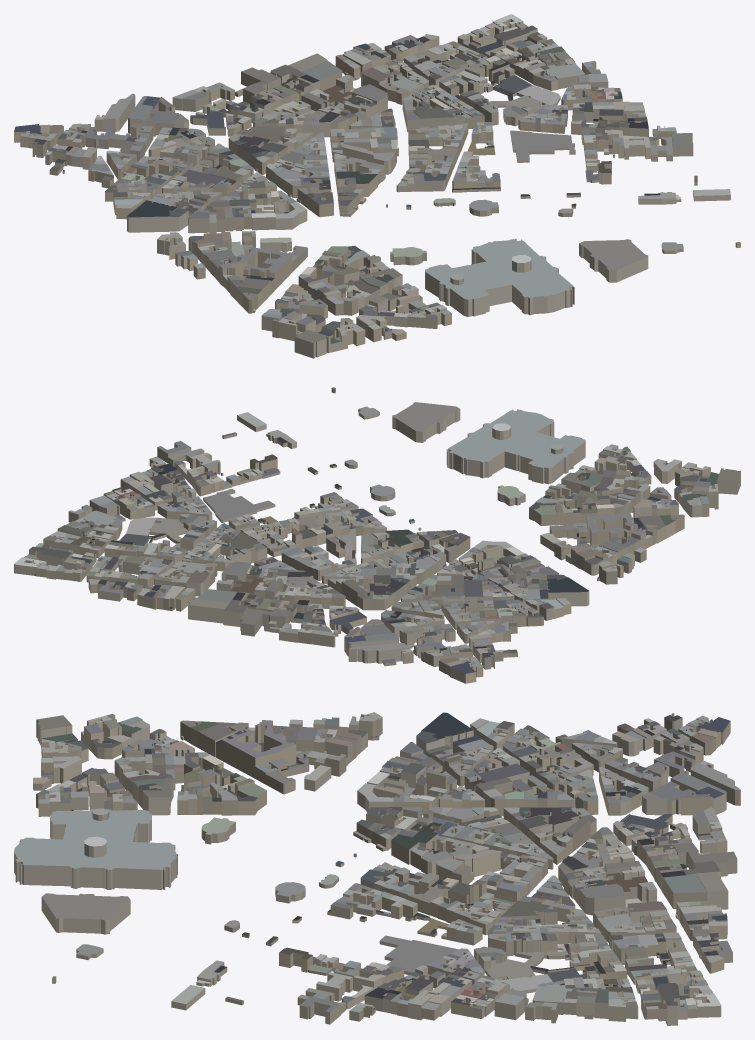
The picture shows the model from 3 angles, top to bottom: view 1: azimuth 30°, elevation 25°; view 2: azimuth 150°, elevation 25°; view 3: azimuth 270°, elevation 25°; orthographic projection. The views are drawn at different scales.
Parts seen in each view (by area): view 1: tuile; view 2: tuile; view 3: tuile.
Part boxes in pixels (x1=…): tuile: x1=14, y1=14, x2=740, y2=358; tuile: x1=14, y1=387, x2=740, y2=683; tuile: x1=14, y1=712, x2=740, y2=1025.
Size of the model in its own units: 1017 by 60.63 by 1064.
